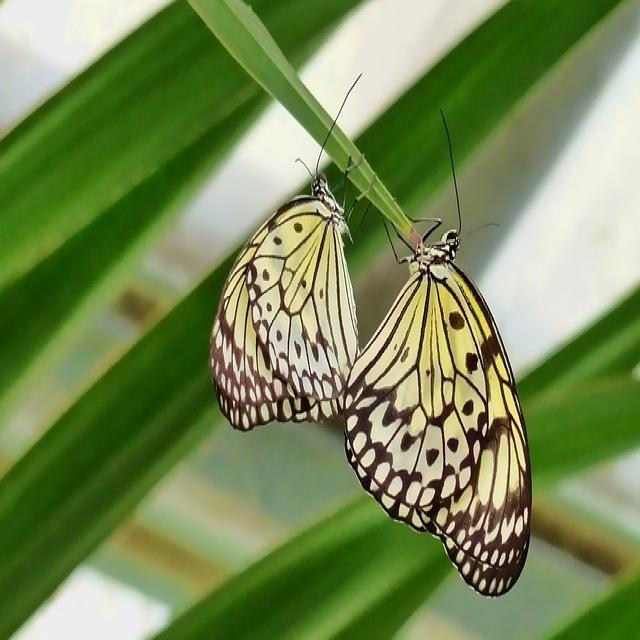butterfly: (344, 231, 531, 596), (210, 175, 359, 429)
